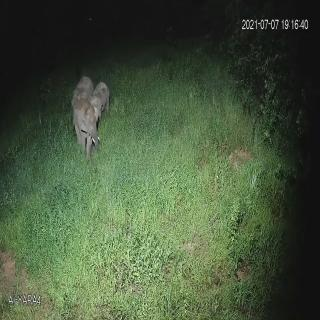Elephant: (70, 98, 101, 163), (92, 76, 113, 122), (72, 70, 95, 106)
